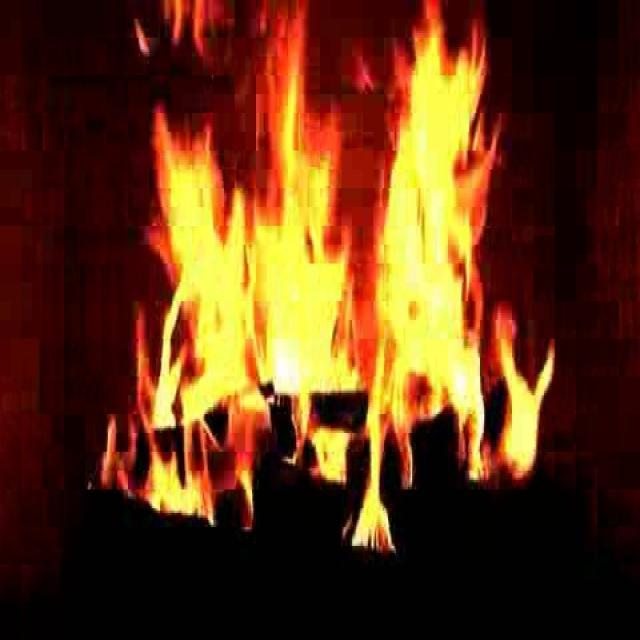Fire: (137, 47, 543, 543)
